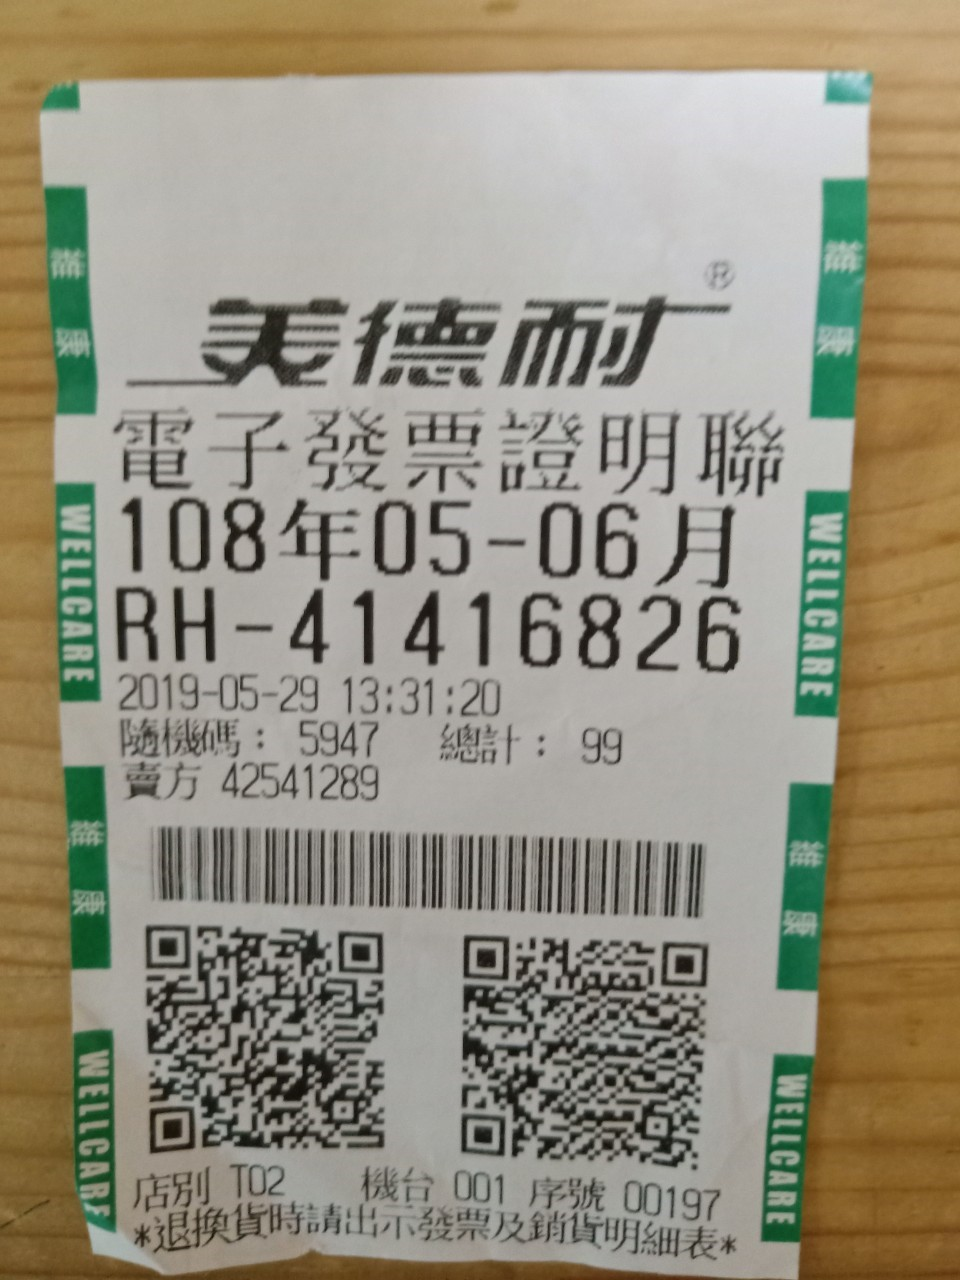Date_New: (114, 492, 738, 588)
Number_New: (285, 583, 753, 678)
